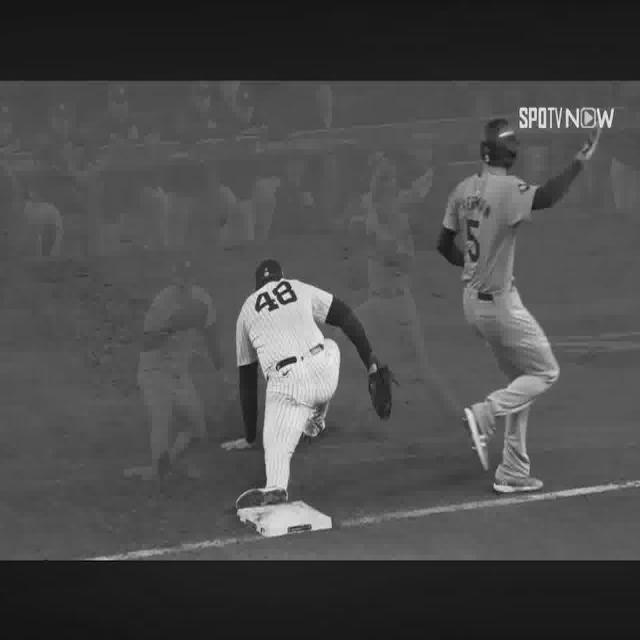base: (238, 500, 332, 537)
baseball_glove: (369, 363, 392, 420)
shoe: (464, 404, 490, 470), (492, 465, 544, 493), (236, 487, 288, 510), (307, 422, 325, 438)
